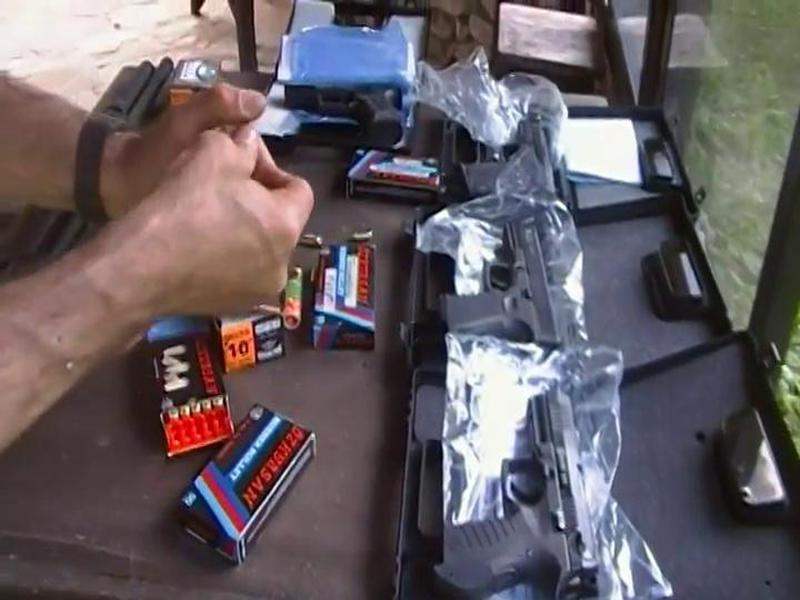Pistola: (417, 386, 621, 600), (433, 207, 574, 370)
